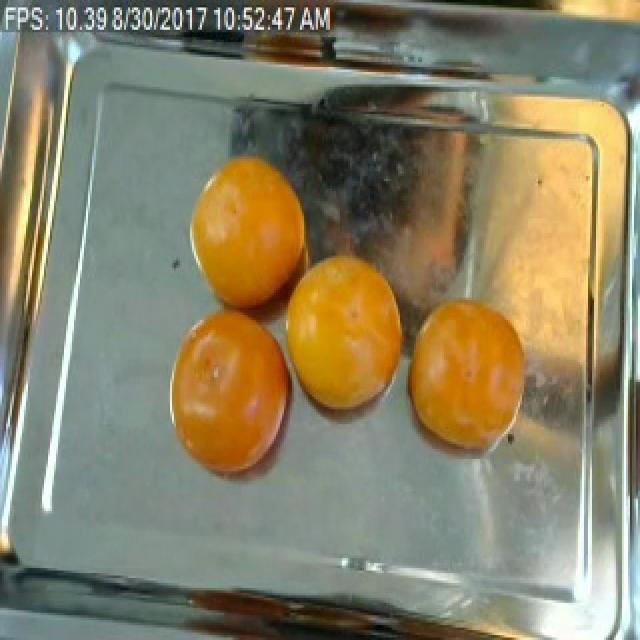Fruit: (342, 101, 488, 312), (158, 295, 300, 501), (274, 238, 410, 439), (176, 139, 320, 325), (398, 278, 538, 469)
